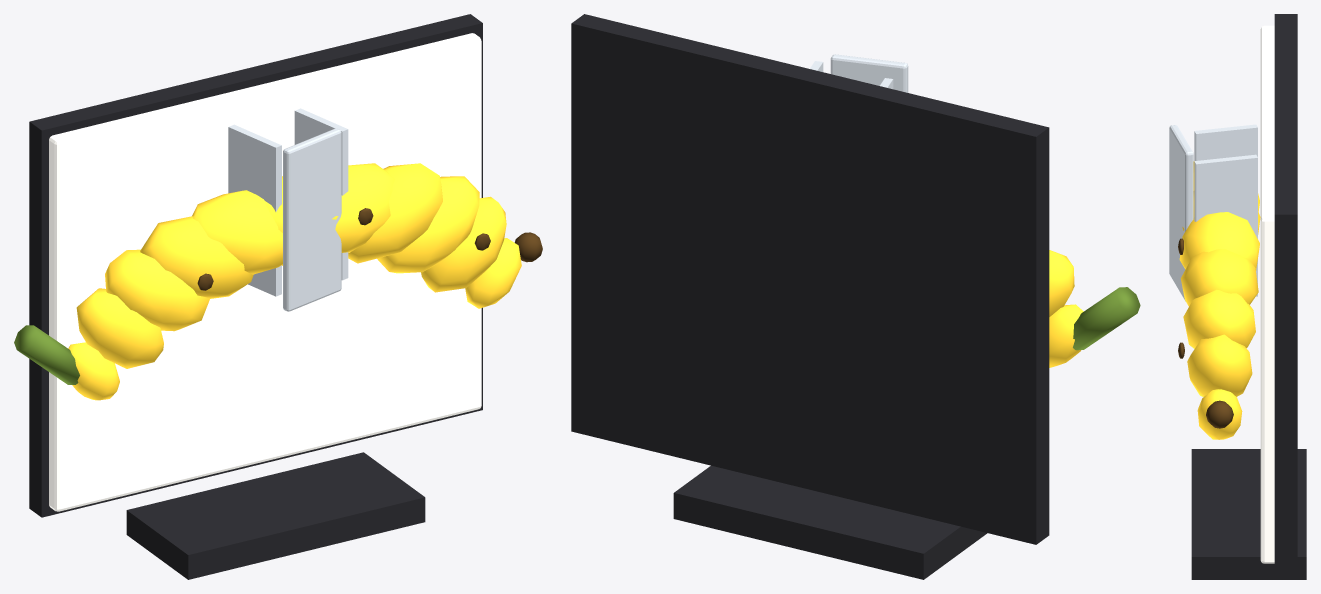
Rendered from platano.glb.
3 renders of one model, left to right at view 1: azimuth 30°, elevation 25°; view 2: azimuth 150°, elevation 25°; view 3: azimuth 270°, elevation 25°, orthographic. The views are drawn at different scales.
Parts seen in each view (by area): view 1: platano_panel, platano_pie_panel, platano_panel_marco, platano_cinta, platano_gajo_2, platano_gajo_3, platano_gajo_4, platano_gajo_7, platano_gajo_1, platano_gajo_8, platano_cinta_lado_0, platano_gajo_9 (+5 smaller); view 2: platano_panel_marco, platano_pie_panel, platano_rabito, platano_cinta, platano_gajo_0, platano_gajo_1; view 3: platano_panel_marco, platano_pie_panel, platano_panel, platano_cinta_lado_1, platano_gajo_8, platano_gajo_7, platano_gajo_9, platano_cinta, platano_gajo_6, platano_cinta_lado_0, platano_gajo_10, platano_punta.
Boxes of the visible parts, x1,y1,x2,y2 form: platano_panel: (49, 33, 481, 511); platano_pie_panel: (126, 452, 425, 579); platano_panel_marco: (29, 14, 482, 517); platano_cinta: (283, 128, 341, 311); platano_gajo_2: (105, 249, 210, 331); platano_gajo_3: (140, 216, 253, 298); platano_gajo_4: (192, 190, 282, 274); platano_gajo_7: (348, 163, 442, 263); platano_gajo_1: (76, 288, 163, 368); platano_gajo_8: (377, 176, 479, 273); platano_cinta_lado_0: (228, 124, 281, 296); platano_gajo_9: (421, 196, 506, 292); platano_panel_marco: (571, 14, 1049, 544); platano_pie_panel: (673, 465, 987, 579); platano_rabito: (1073, 287, 1140, 350); platano_cinta: (830, 54, 908, 92); platano_gajo_0: (1049, 304, 1083, 367); platano_gajo_1: (1049, 250, 1074, 316); platano_panel_marco: (1274, 14, 1297, 575); platano_pie_panel: (1191, 449, 1306, 579); platano_panel: (1260, 25, 1274, 563); platano_cinta_lado_1: (1194, 154, 1257, 296); platano_gajo_8: (1183, 289, 1255, 348); platano_gajo_7: (1180, 249, 1258, 306); platano_gajo_9: (1187, 334, 1252, 396); platano_cinta: (1169, 125, 1193, 301); platano_gajo_6: (1179, 212, 1259, 270); platano_cinta_lado_0: (1194, 124, 1257, 160); platano_gajo_10: (1197, 389, 1242, 439); platano_punta: (1206, 400, 1233, 428).
Size of the model in its own units: 0.4425 by 0.356 by 0.1076.
